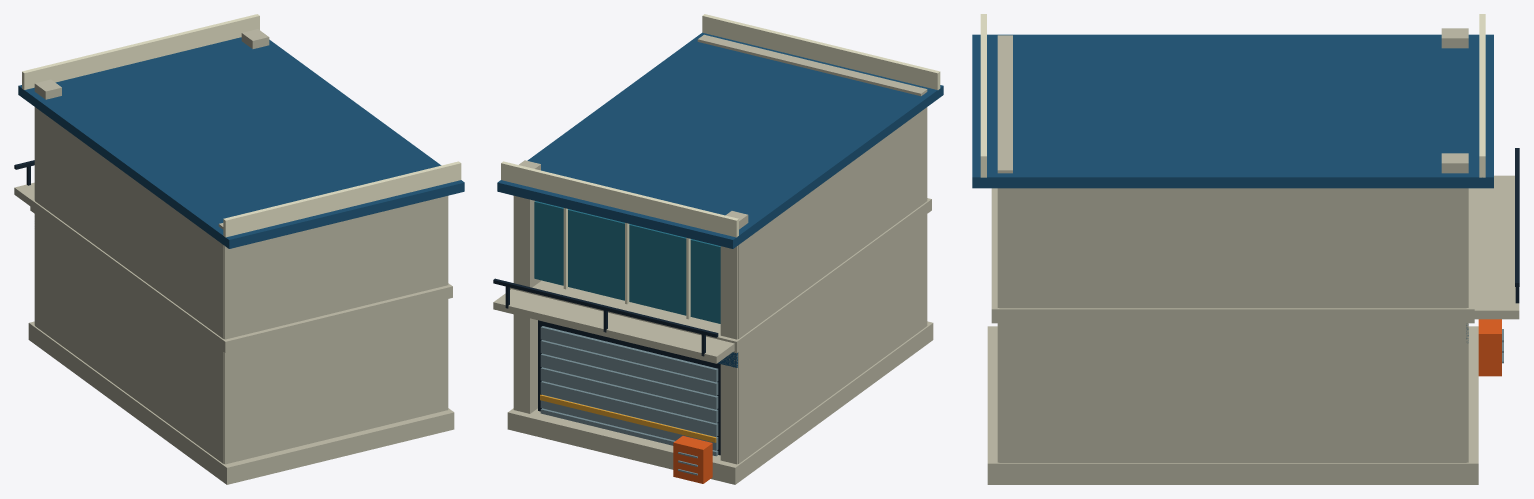
File: garage_bay.glb
The picture shows the model from 3 angles, left to right: view 1: azimuth 30°, elevation 25°; view 2: azimuth 150°, elevation 25°; view 3: azimuth 270°, elevation 25°; orthographic projection. The views are drawn at different scales.
Parts seen in each view (by area): view 1: Roof, RearServiceWall, SideWalls, Parapet, Foundation, UpperFloor, Columns; view 2: Roof, SideWalls, DoorPanels, ObservationGlazing, Parapet, Foundation, Columns, Balcony, UpperFloor, RearServiceWall, ToolCabinet, DoorRecess (+3 smaller); view 3: SideWalls, Roof, Foundation, UpperFloor, Balcony, RearServiceWall, Parapet, Columns, ToolCabinet, BalconyRail.
Boxes of the visible parts, x1,y1,x2,y2 form: Roof: (18,37,464,248); RearServiceWall: (218,196,448,464); SideWalls: (35,107,224,463); Parapet: (22,14,461,237); Foundation: (28,321,454,484); UpperFloor: (30,198,452,353); Columns: (34,29,269,324); Roof: (497,32,943,248); SideWalls: (738,107,927,463); DoorPanels: (540,326,718,456); ObservationGlazing: (534,201,720,323); Parapet: (501,14,940,237); Foundation: (507,321,933,484); Columns: (513,160,748,464); Balcony: (493,289,734,363); UpperFloor: (510,198,931,353); RearServiceWall: (697,34,927,96); ToolCabinet: (673,436,712,483); DoorRecess: (538,320,720,455); SideWalls: (999,188,1466,462); Roof: (972,34,1493,188); Foundation: (987,326,1478,484); UpperFloor: (991,188,1474,323); Balcony: (1474,175,1519,319); RearServiceWall: (997,35,1012,462); Parapet: (980,14,1485,177); Columns: (1441,28,1468,462); ToolCabinet: (1478,319,1501,376); BalconyRail: (1515,148,1519,286).
Bounding box in the file's own units: 8.65 × 9.38 × 14.06.
